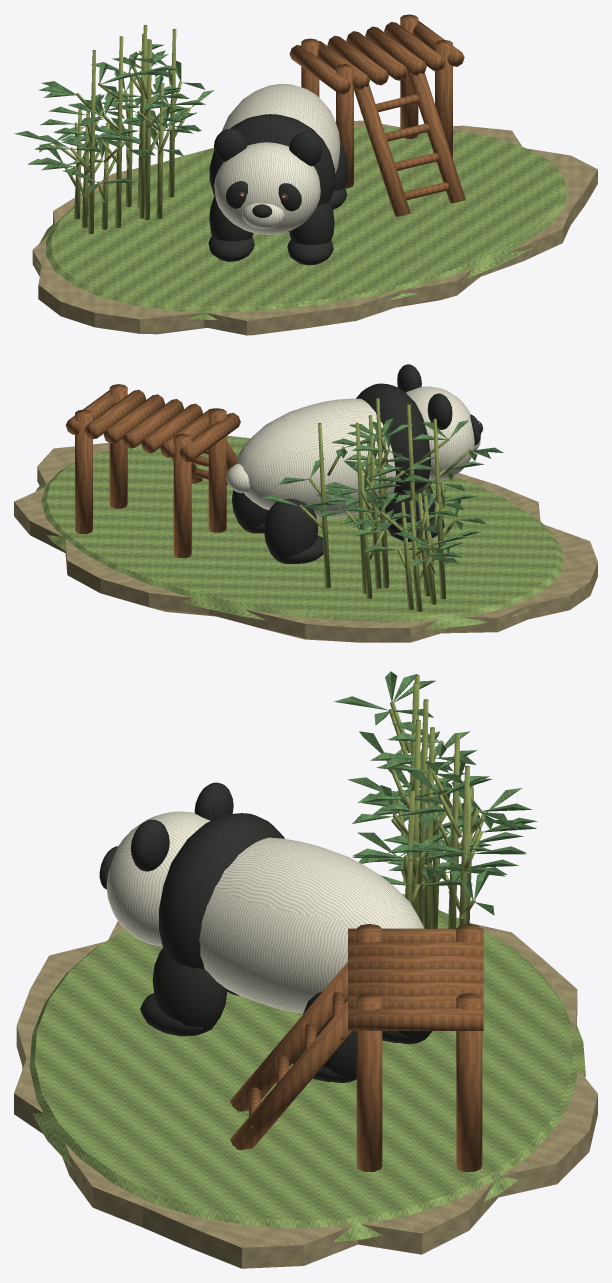
Rendered from panda-base.glb.
3 renders of one model, top to bottom at view 1: azimuth 30°, elevation 25°; view 2: azimuth 150°, elevation 25°; view 3: azimuth 270°, elevation 25°, orthographic. The views are drawn at different scales.
Visible parts, largest first — view 1: 成都大熊猫繁育研究基地; view 2: 成都大熊猫繁育研究基地; view 3: 成都大熊猫繁育研究基地.
Boxes of the visible parts, x1,y1,x2,y2 form: 成都大熊猫繁育研究基地: (14, 14, 597, 335); 成都大熊猫繁育研究基地: (14, 364, 597, 642); 成都大熊猫繁育研究基地: (14, 671, 597, 1268).
Bounding box in the file's own units: 6.26 × 2.42 × 4.1.
Materials: 9 (9 with a texture image).
